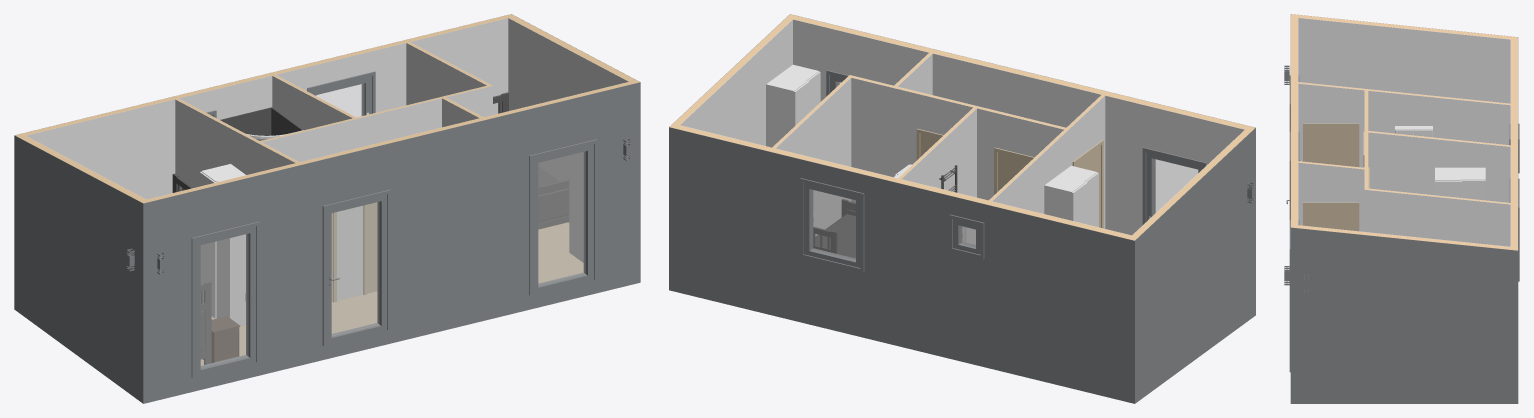
Rendered from donatas@etapasgroup.lt_(3,6x8,0)_R00_miegamasis korpusas 1.fbx.
3 renders of one model, left to right at view 1: azimuth 30°, elevation 25°; view 2: azimuth 150°, elevation 25°; view 3: azimuth 270°, elevation 25°, orthographic. The views are drawn at different scales.
Parts seen in each view (by area): view 1: IfcWall/Part:2397155, IfcWall/Part:2659861, IfcWall/Part:2319976, IfcDoor/Durys išorinės:1000x2100x120 (dešininės):2647230, IfcWindow/Langai (Akrusta):1000x2100x120 (dešininis):2645602, IfcWindow/Langai (Akrusta):1000x2100x120 (kairinis):2657333, IfcWall/Part:2584019, IfcWall/Part:2659871, IfcWall/Part:2635882, IfcFurnishingElement/Ikea spinta:800 x 500 x 2100mm:2654173, IfcSlab/Part:2319985, IfcWall/Part:2650858 (+14 smaller); view 2: IfcWall/Part:2319977, IfcWall/Part:2659861, IfcWall/Part:2397154, IfcWall/Part:2656616, IfcWall/Part:2659871, IfcWindow/Langai (Akrusta):1000x1200x120 (dešininis):2631983, IfcWall/Part:2650858, IfcWall/Part:2635882, IfcWall/Part:2636866, IfcWall/Part:2584018, IfcFurnishingElement/Ikea spinta:800 x 500 x 2100mm:2654492, IfcFurnishingElement/Ikea spinta:800 x 500 x 2100mm:2654173 (+11 smaller); view 3: IfcWall/Part:2659872, IfcWall/Part:2659860, IfcWall/Part:2636865, IfcWall/Part:2650857, IfcWall/Part:2635881, IfcWall/Part:2637351, IfcWall/Part:2651742, IfcDoor/Durys vidinės:800x2100 x 120 (dešininės):2635891, IfcFurnishingElement/Ikea spinta:800 x 500 x 2100mm:2656018, IfcDoor/Durys vidinės:800x2100 x 120 (dešininės):2652865, IfcWall/Part:2397156, IfcWall/Part:2319978 (+11 smaller).
Boxes of the visible parts, x1,y1,x2,y2 form: IfcWall/Part:2397155: (143, 82, 640, 403); IfcWall/Part:2659861: (14, 135, 143, 403); IfcWall/Part:2319976: (26, 18, 508, 199); IfcDoor/Durys išorinės:1000x2100x120 (dešininės):2647230: (322, 189, 391, 345); IfcWindow/Langai (Akrusta):1000x2100x120 (dešininis):2645602: (529, 139, 597, 295); IfcWindow/Langai (Akrusta):1000x2100x120 (kairinis):2657333: (191, 221, 259, 377); IfcWall/Part:2584019: (262, 98, 441, 300); IfcWall/Part:2659871: (508, 18, 628, 222); IfcWall/Part:2635882: (175, 99, 295, 191); IfcFurnishingElement/Ikea spinta:800 x 500 x 2100mm:2654173: (199, 164, 245, 325); IfcSlab/Part:2319985: (200, 222, 583, 365); IfcWall/Part:2650858: (406, 43, 486, 105); IfcWall/Part:2319977: (669, 127, 1134, 403); IfcWall/Part:2659861: (1135, 128, 1255, 403); IfcWall/Part:2397154: (793, 19, 1244, 235); IfcWall/Part:2656616: (851, 77, 973, 202); IfcWall/Part:2659871: (680, 19, 792, 145); IfcWindow/Langai (Akrusta):1000x1200x120 (dešininis):2631983: (800, 178, 864, 272); IfcWall/Part:2650858: (775, 78, 851, 236); IfcWall/Part:2635882: (992, 96, 1105, 228); IfcWall/Part:2636866: (901, 108, 976, 244); IfcWall/Part:2584018: (977, 108, 1063, 200); IfcFurnishingElement/Ikea spinta:800 x 500 x 2100mm:2654492: (766, 64, 820, 147); IfcFurnishingElement/Ikea spinta:800 x 500 x 2100mm:2654173: (1044, 165, 1098, 227); IfcWall/Part:2659872: (1291, 227, 1518, 403); IfcWall/Part:2659860: (1298, 18, 1510, 103); IfcWall/Part:2636865: (1368, 132, 1510, 202); IfcWall/Part:2650857: (1365, 189, 1510, 246); IfcWall/Part:2635881: (1368, 90, 1510, 144); IfcWall/Part:2637351: (1298, 83, 1364, 167); IfcWall/Part:2651742: (1298, 162, 1364, 231); IfcDoor/Durys vidinės:800x2100 x 120 (dešininės):2635891: (1303, 123, 1359, 167); IfcFurnishingElement/Ikea spinta:800 x 500 x 2100mm:2656018: (1435, 167, 1485, 200); IfcDoor/Durys vidinės:800x2100 x 120 (dešininės):2652865: (1303, 202, 1359, 231); IfcWall/Part:2397156: (1291, 14, 1297, 228); IfcWall/Part:2319978: (1511, 36, 1517, 247).
Size of the model in its own units: 820 by 308 by 372.
